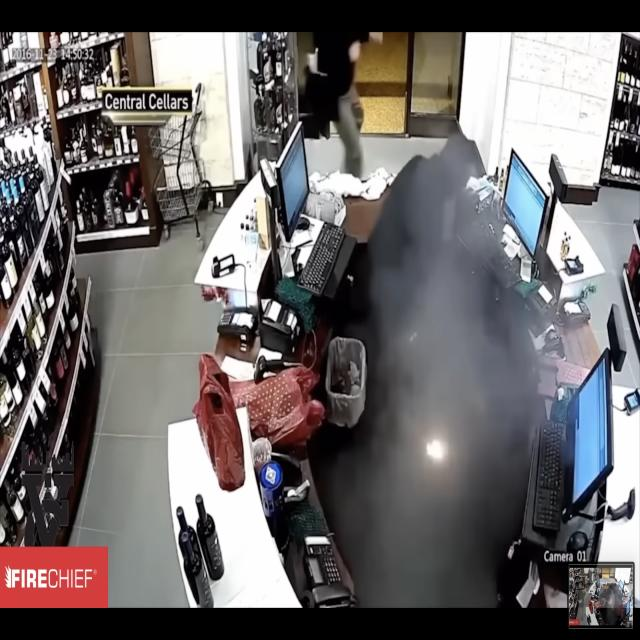Atencao: (330, 148, 556, 606)
Fogo: (416, 419, 466, 476)
